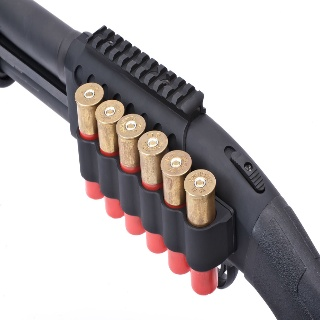shotgun: (1, 1, 320, 320)
